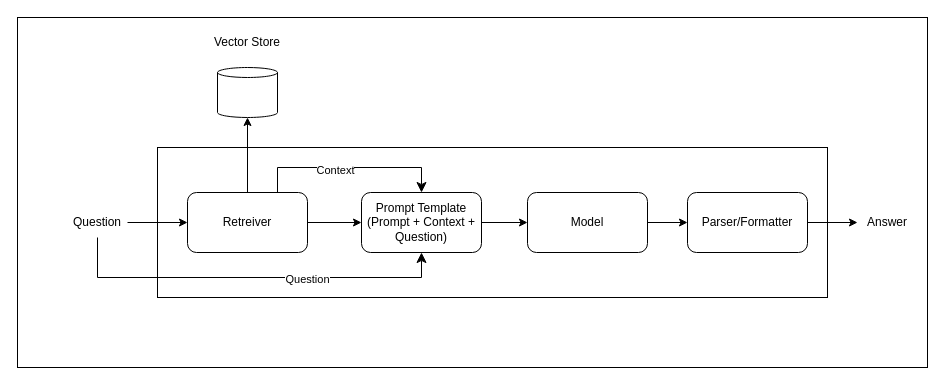
Some shapes in this 945 by 385 pixel diagram are drawn without their labels. The shapes that lost their labels are listed below. From the top down, each one's box as (x1, y1, x2, y2) in pixels, then its label:
(216, 66, 278, 118): FAISS
(156, 146, 828, 298): RAG Chain
